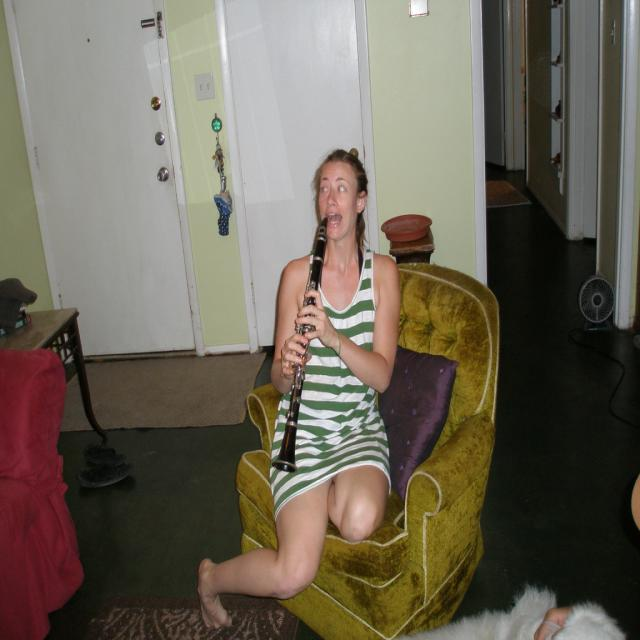clarinet: (270, 210, 332, 480)
